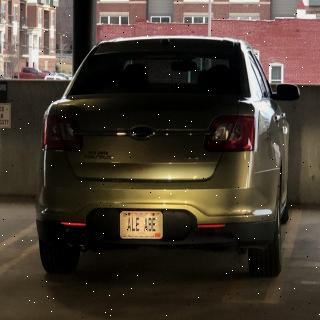license: (121, 212, 164, 240)
